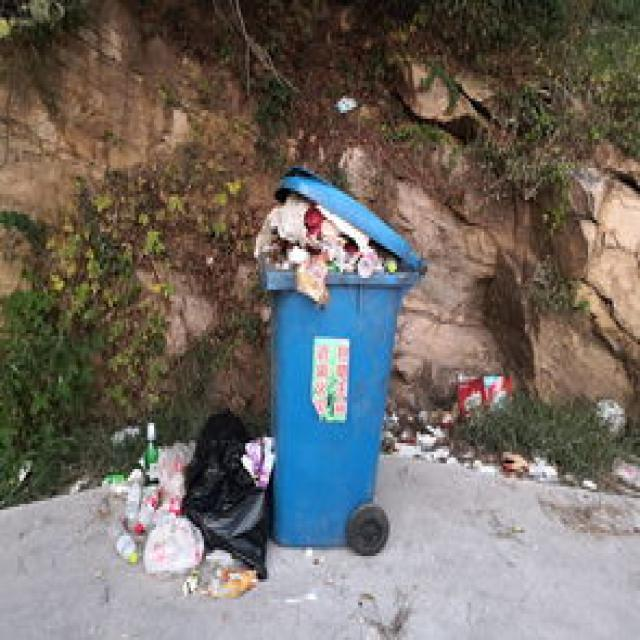garbage: (98, 408, 273, 600), (414, 373, 558, 478)
overflow: (254, 168, 421, 544)
